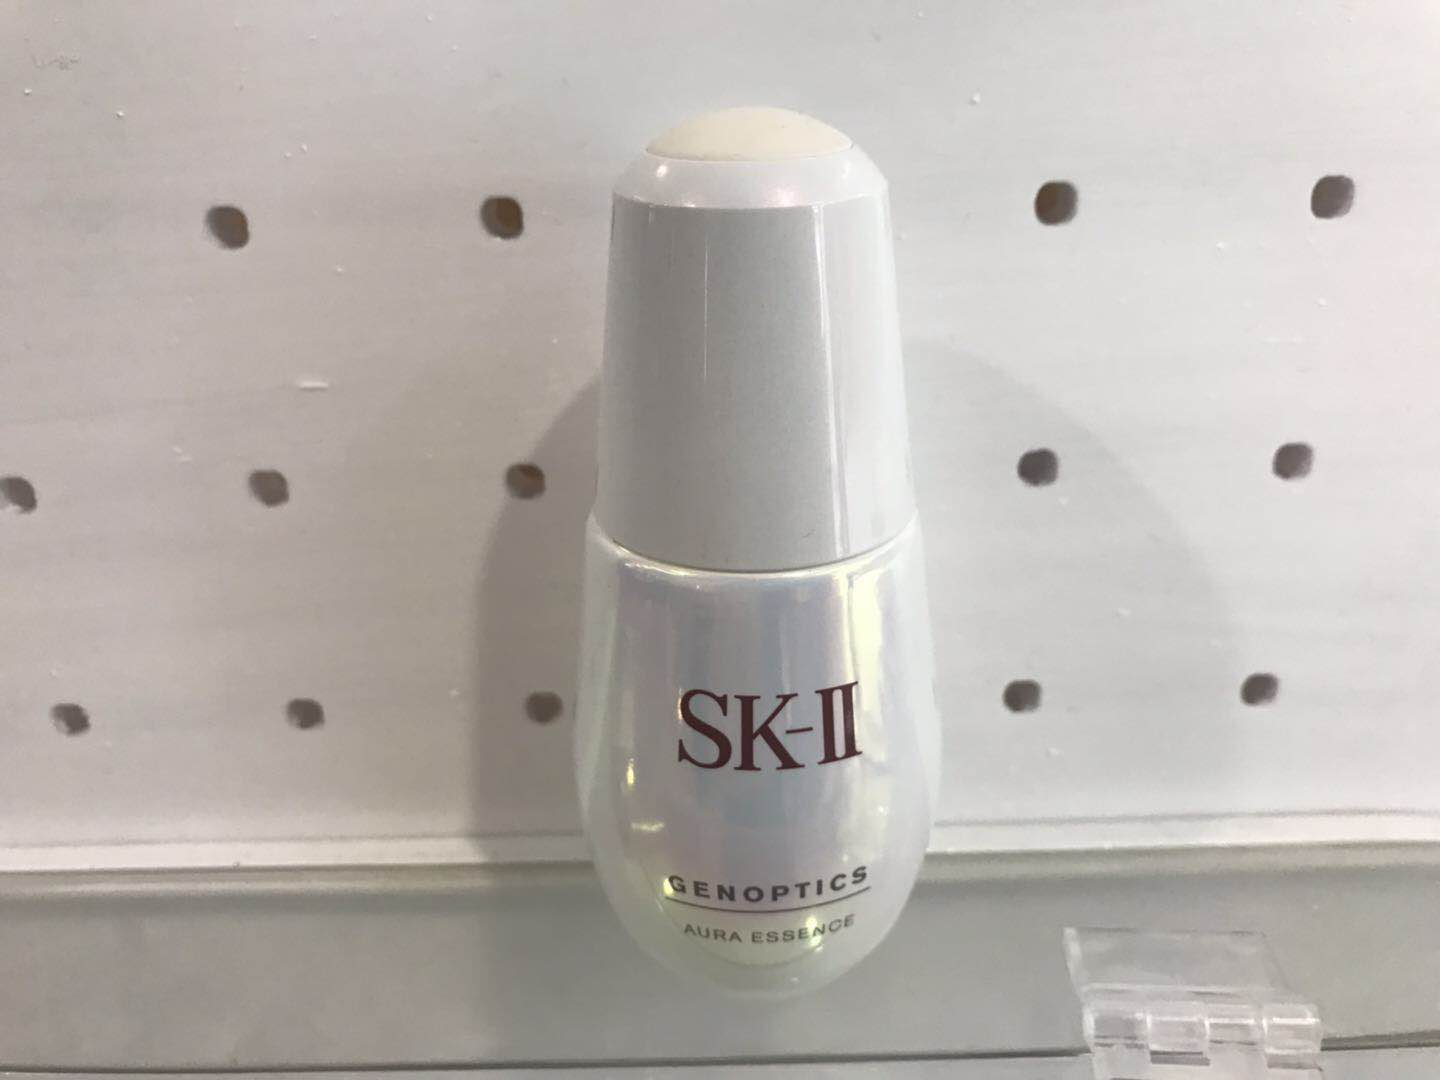sk2: (536, 85, 981, 1033)
